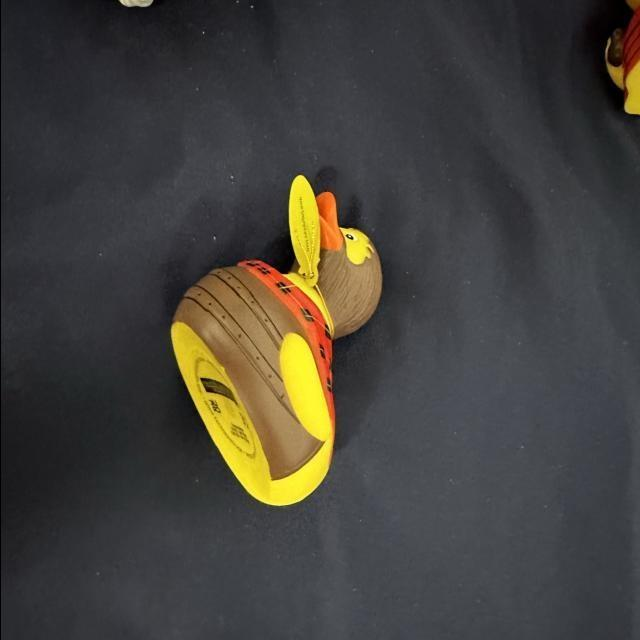rubber-duck: (170, 174, 380, 503)
